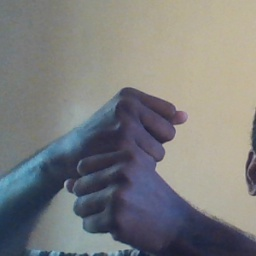G: (66, 81, 190, 240)
